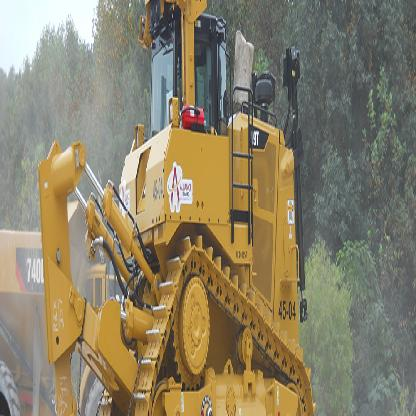bull_dozer/loader/grader: (24, 1, 320, 415)
